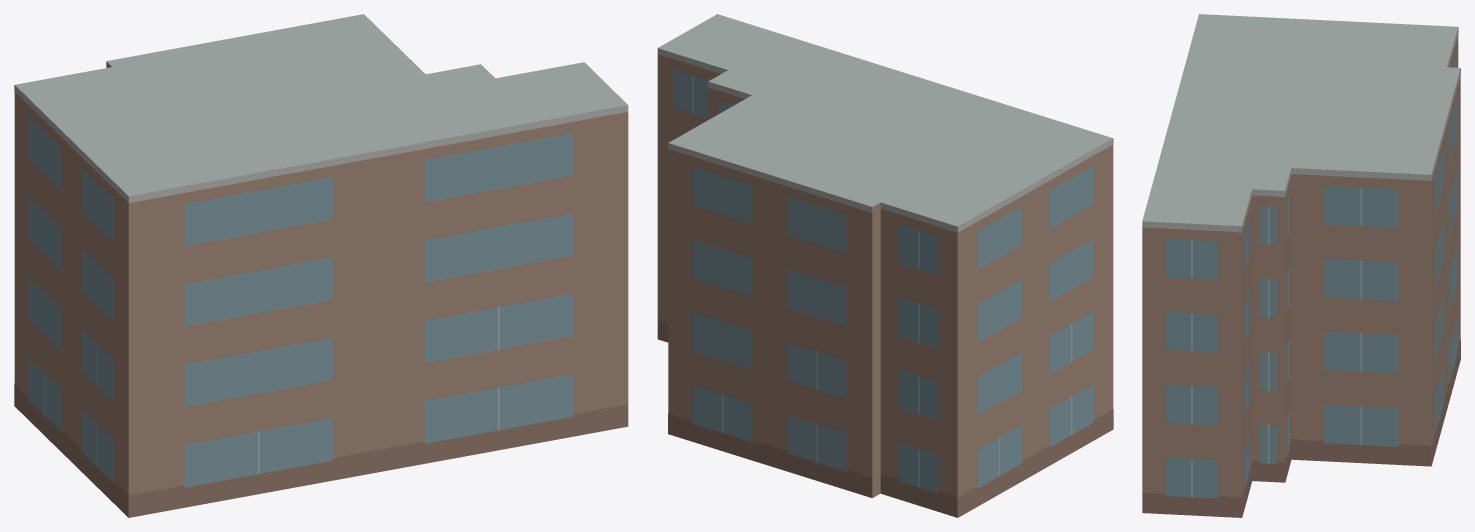
Rendered from survey-upis-32770091.glb.
3 views of the same model, side by side, from view 1: azimuth 30°, elevation 25°; view 2: azimuth 150°, elevation 25°; view 3: azimuth 270°, elevation 25° (orthographic). The views are drawn at different scales.
Parts seen in each view (by area): view 1: survey-upis-32770091.tmp; view 2: survey-upis-32770091.tmp; view 3: survey-upis-32770091.tmp.
Part boxes in pixels (x1=…): survey-upis-32770091.tmp: x1=14, y1=14, x2=628, y2=517; survey-upis-32770091.tmp: x1=657, y1=14, x2=1113, y2=517; survey-upis-32770091.tmp: x1=1142, y1=14, x2=1460, y2=517.
Size of the model in its own units: 18.27 by 11.7 by 11.59.
